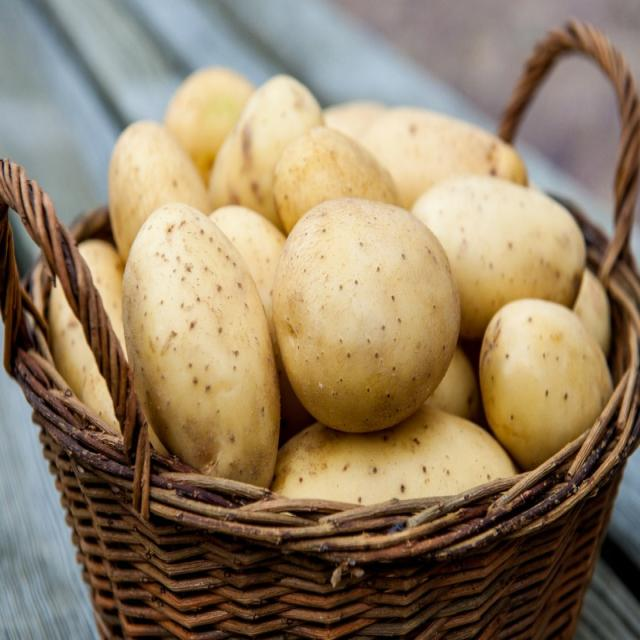potato: (125, 189, 292, 517), (266, 168, 474, 423), (272, 403, 524, 560), (420, 141, 591, 332), (476, 283, 624, 476)
